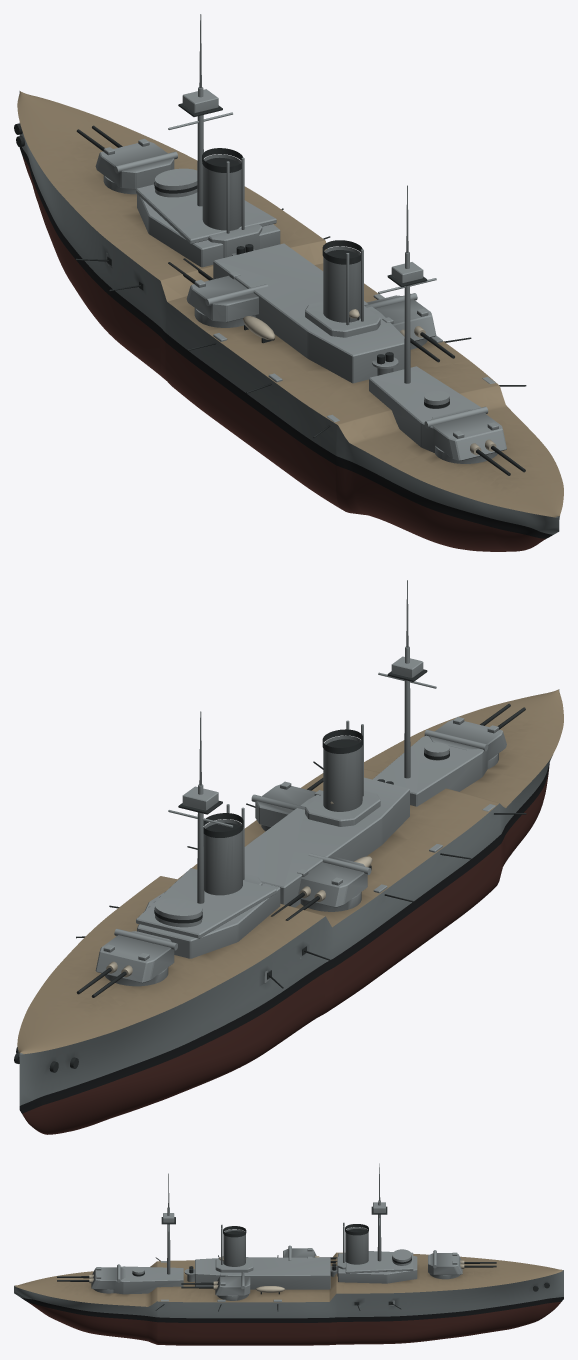
The model's file is sms-posen.glb.
The picture shows the model from 3 angles, top to bottom: view 1: azimuth 30°, elevation 25°; view 2: azimuth 150°, elevation 25°; view 3: azimuth 270°, elevation 25°; orthographic projection. The views are drawn at different scales.
Visible parts, largest first — view 1: sms-posen; view 2: sms-posen; view 3: sms-posen.
Boxes of the visible parts, box(x1,y1,x2,y2) form: sms-posen: box(14, 14, 563, 551); sms-posen: box(14, 580, 563, 1134); sms-posen: box(14, 1163, 563, 1345).
Size of the model in its own units: 35.26 by 48.8 by 146.
